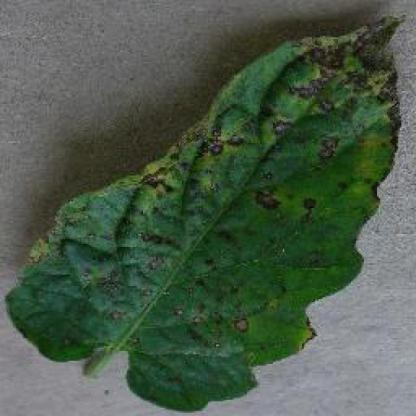Tomato_Blight: (5, 13, 411, 410)
